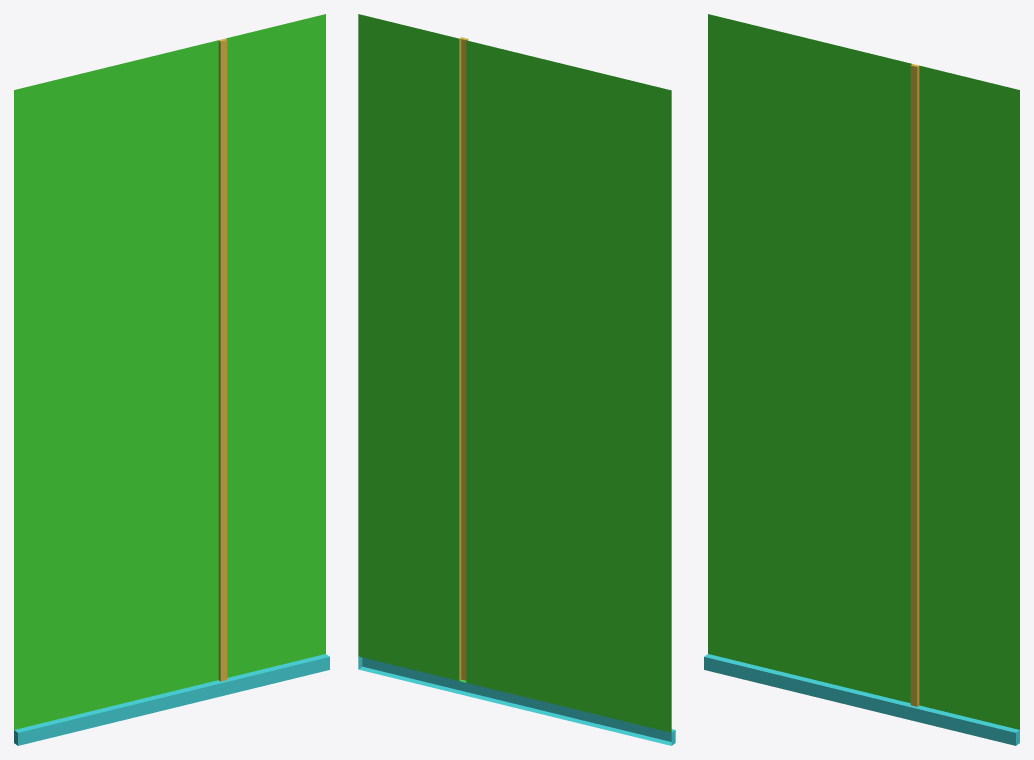
File: Wall_50_B.fbx
3 renders of one model, left to right at view 1: azimuth 30°, elevation 25°; view 2: azimuth 150°, elevation 25°; view 3: azimuth 330°, elevation 25°, orthographic.
Visible parts, largest first — view 1: Wall_50_B; view 2: Wall_50_B; view 3: Wall_50_B.
Boxes of the visible parts, bbox=[...] form: Wall_50_B: bbox=[14, 14, 329, 745]; Wall_50_B: bbox=[358, 14, 675, 745]; Wall_50_B: bbox=[704, 14, 1019, 745].
Size of the model in its own units: 229 by 457 by 5.08.
